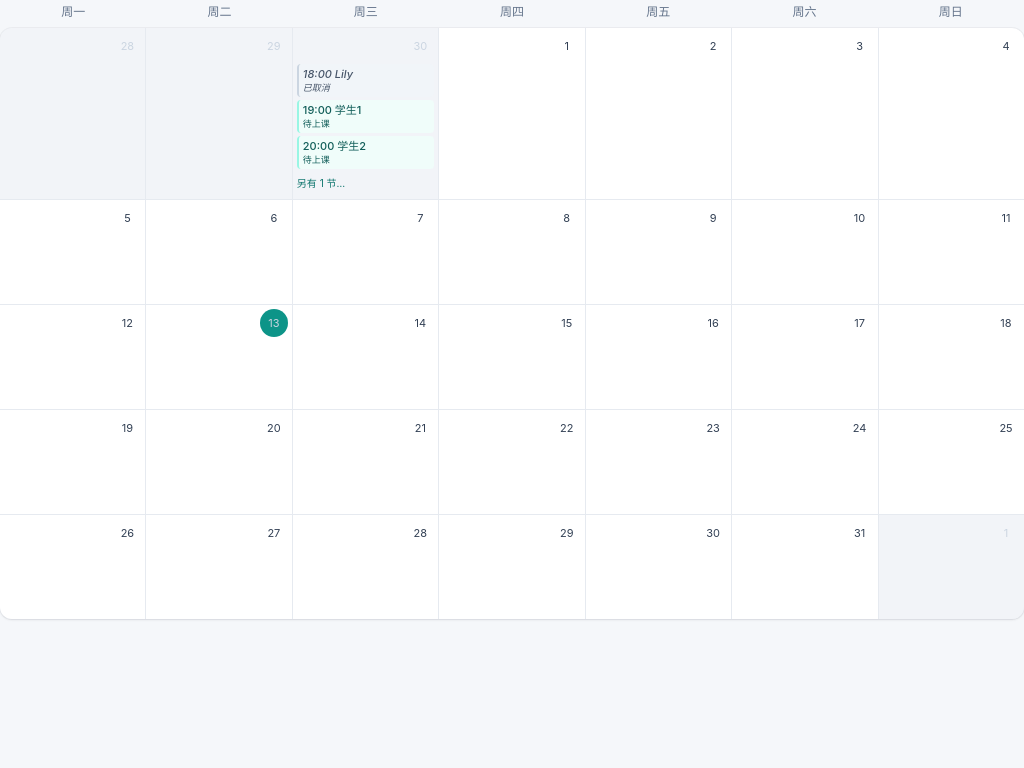
Test: 月视图保留取消标记和课节身份，拥挤日期可展开全部课节
Expected: the button "18:00 Lily 已取消" is shown, x1=297 y1=64 x2=434 y2=97
What coordinates should you click on to do the following:
click the button "另有 1 节…"
I would click on:
 (366, 184)
Its box is x1=297 y1=172 x2=434 y2=195.
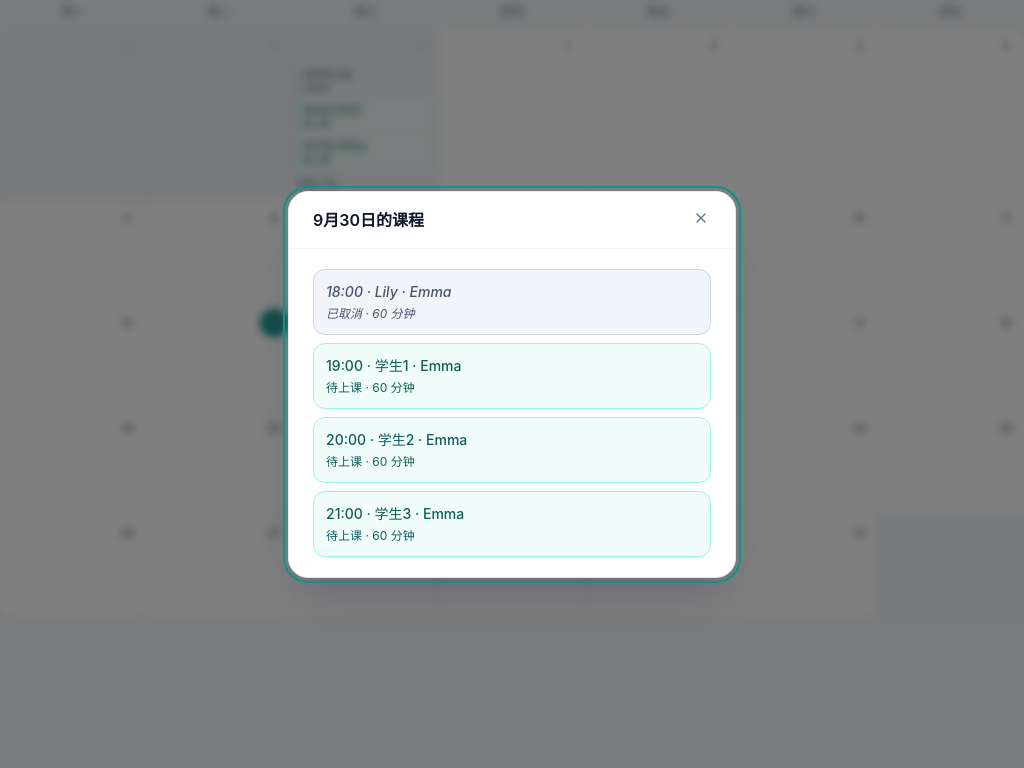
Result: the dialog "9月30日的课程" is shown at x1=288 y1=190 x2=736 y2=578
Result: the button "21:00 · 学生3 · Emma 待上课 · 60 分钟" is shown at x1=313 y1=490 x2=711 y2=556
